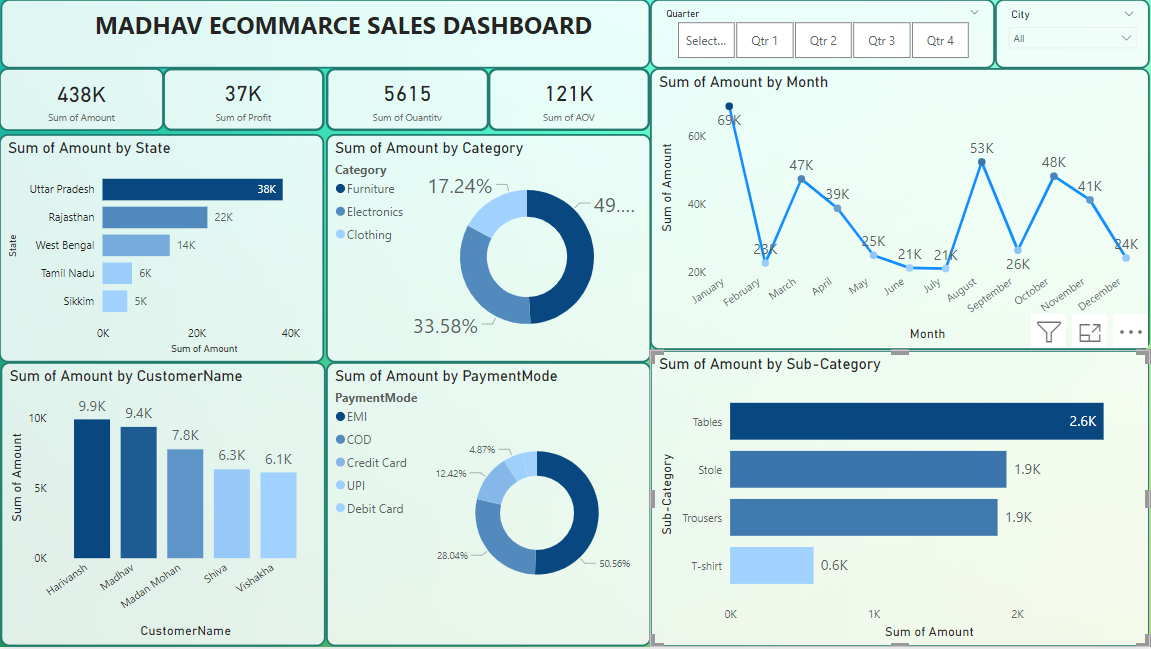

What the dashboard file says about the page in this screenshot:
{"tool":"powerbi","page":{"name":"Page 1","canvas":[1280,720],"ordinal":0},"visuals":[{"type":"card","fields":{"Values":["Details.Amount"]},"box":[0,77,183,70],"z":0},{"type":"card","fields":{"Values":["Details.Profit"]},"box":[181,77,180,70],"z":1000},{"type":"card","fields":{"Values":["Details.Quantity"]},"box":[363,77,181,70],"z":2000},{"type":"card","fields":{"Values":["Details.AOV"]},"box":[543.3,76.7,180,70],"z":3000},{"type":"textbox","box":[2,0,722,77],"z":4000},{"type":"barChart","fields":{"Y":["Details.Amount"],"Category":["Orders.State"]},"box":[0,150,361,254],"z":5000},{"type":"columnChart","fields":{"Y":["Details.Amount"],"Category":["Orders.CustomerName"]},"box":[2,404,361,316],"z":6000},{"type":"donutChart","fields":{"Y":["Details.Amount"],"Category":["Details.Category"]},"box":[363,150,361,254],"z":7000},{"type":"donutChart","fields":{"Y":["Details.Amount"],"Category":["Details.PaymentMode"]},"box":[363,404,361,316],"z":8000},{"type":"lineChart","fields":{"Category":["Orders.Order Date.Variation.Date Hierarchy.Month"],"Y":["Details.Amount"]},"box":[723,77,555,313],"z":9000},{"type":"clusteredBarChart","fields":{"Category":["Details.Sub-Category"],"Y":["Details.Amount"]},"box":[724,390,555,330],"z":10000},{"type":"slicer","fields":{"Values":["Orders.Order Date.Variation.Date Hierarchy.Quarter"]},"box":[724,0,383,77],"z":11000},{"type":"slicer","fields":{"Values":["Orders.City"]},"box":[1107,0,172,77],"z":12000}]}

Visuals, with their boxes in screenshot pixels (x1, y1, x2, y2), scaled from the page's 1280x720 canvas onto the 1151x649 screenshot:
card - Details.Amount: detection(0, 69, 165, 133)
card - Details.Profit: detection(163, 69, 325, 133)
card - Details.Quantity: detection(326, 69, 489, 133)
card - Details.AOV: detection(489, 69, 650, 132)
textbox: detection(2, 0, 651, 69)
barChart - Details.Amount x Orders.State: detection(0, 135, 325, 364)
columnChart - Details.Amount x Orders.CustomerName: detection(2, 364, 326, 648)
donutChart - Details.Amount x Details.Category: detection(326, 135, 651, 364)
donutChart - Details.Amount x Details.PaymentMode: detection(326, 364, 651, 648)
lineChart - Orders.Order Date.Variation.Date Hierarchy.Month x Details.Amount: detection(650, 69, 1149, 352)
clusteredBarChart - Details.Sub-Category x Details.Amount: detection(651, 352, 1150, 648)
slicer - Orders.Order Date.Variation.Date Hierarchy.Quarter: detection(651, 0, 995, 69)
slicer - Orders.City: detection(995, 0, 1150, 69)
